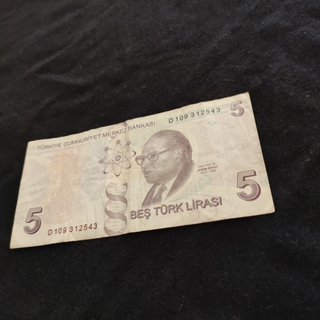5TLBack: (8, 90, 277, 249)
